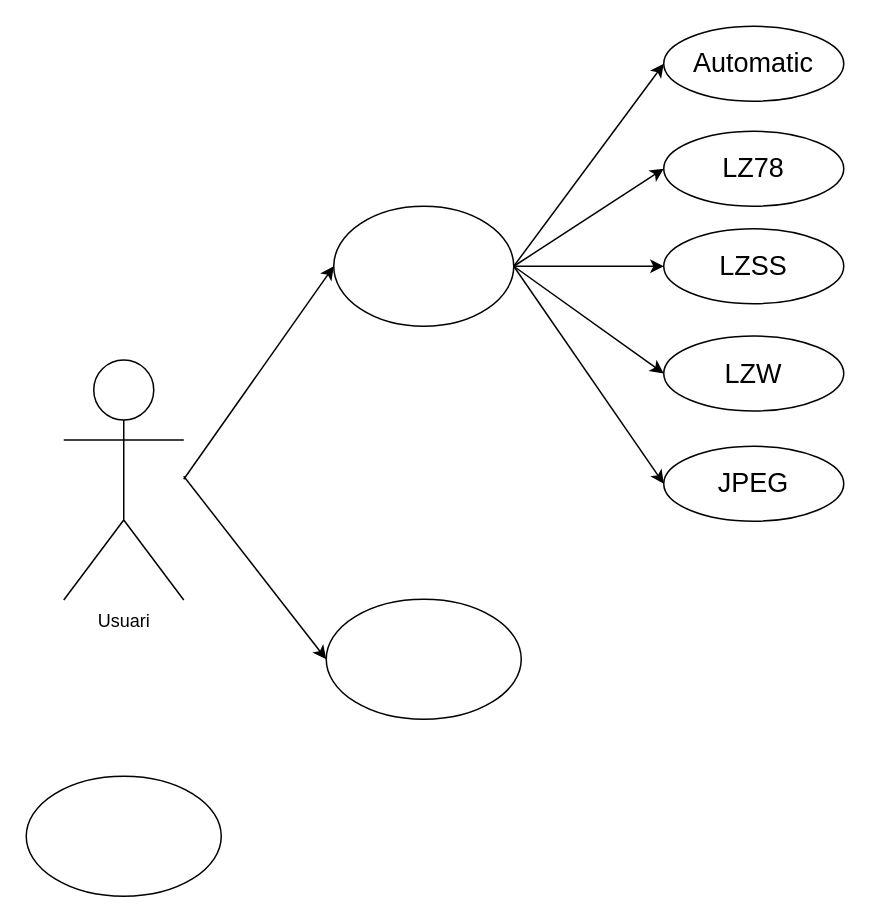
Some shapes in this 870 by 923 pixel diagram are drawn without their labels. Each missing label, with the box of its shape:
Comprimir: (332, 205, 514, 326)
Descomprimir: (325, 598, 521, 719)
Sortir: (25, 775, 221, 896)
